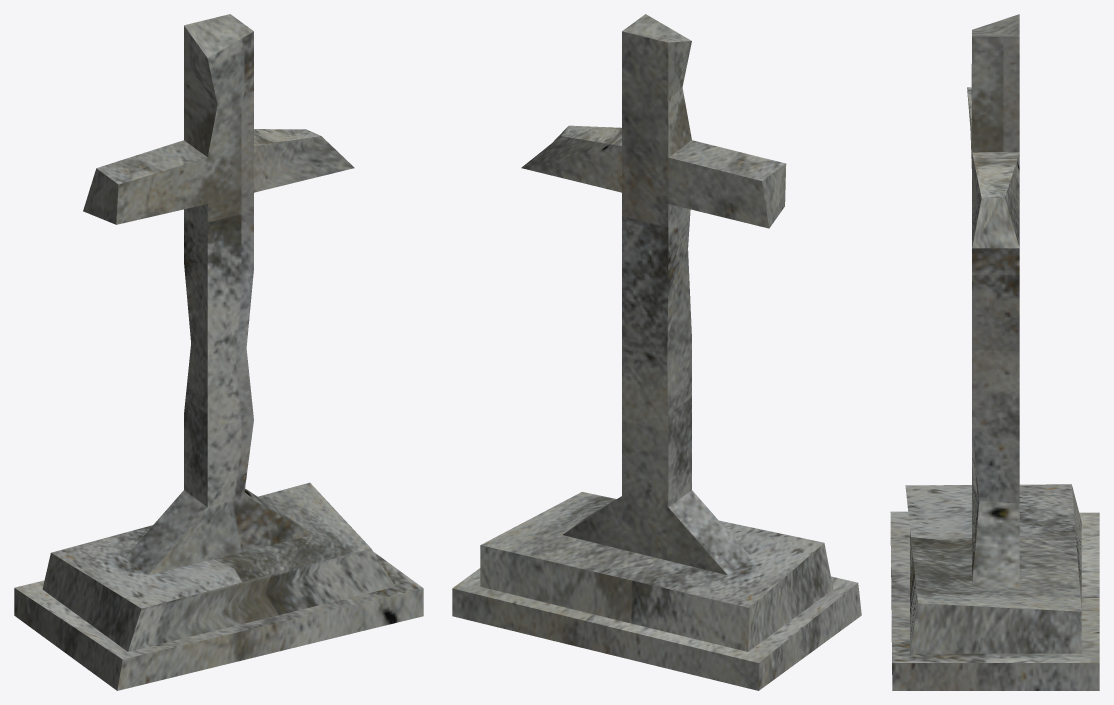
File: Tombstone3.fbx
The picture shows the model from 3 angles, left to right: view 1: azimuth 30°, elevation 25°; view 2: azimuth 150°, elevation 25°; view 3: azimuth 270°, elevation 25°; orthographic projection.
Parts seen in each view (by area): view 1: Cube.148; view 2: Cube.148; view 3: Cube.148.
Part boxes in pixels (bbox=[...]): Cube.148: bbox=[14, 14, 423, 690]; Cube.148: bbox=[452, 14, 861, 690]; Cube.148: bbox=[890, 14, 1099, 690].
Bounding box in the file's own units: 134 × 246 × 78.93.
